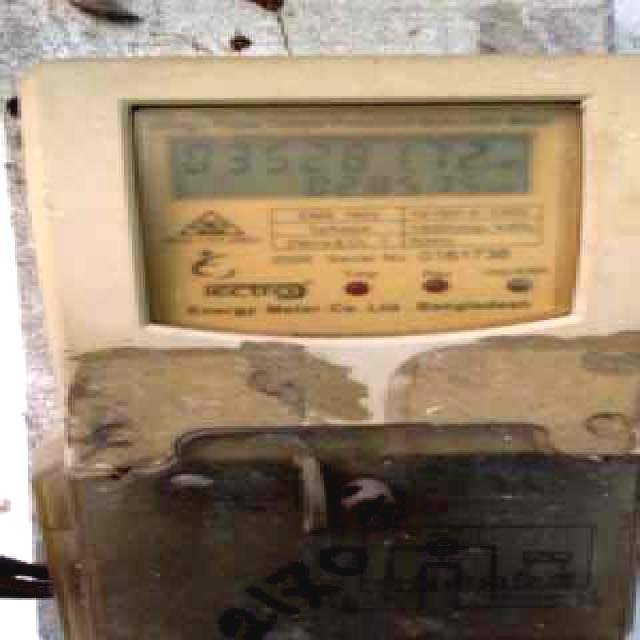LCD: (160, 126, 545, 203)
